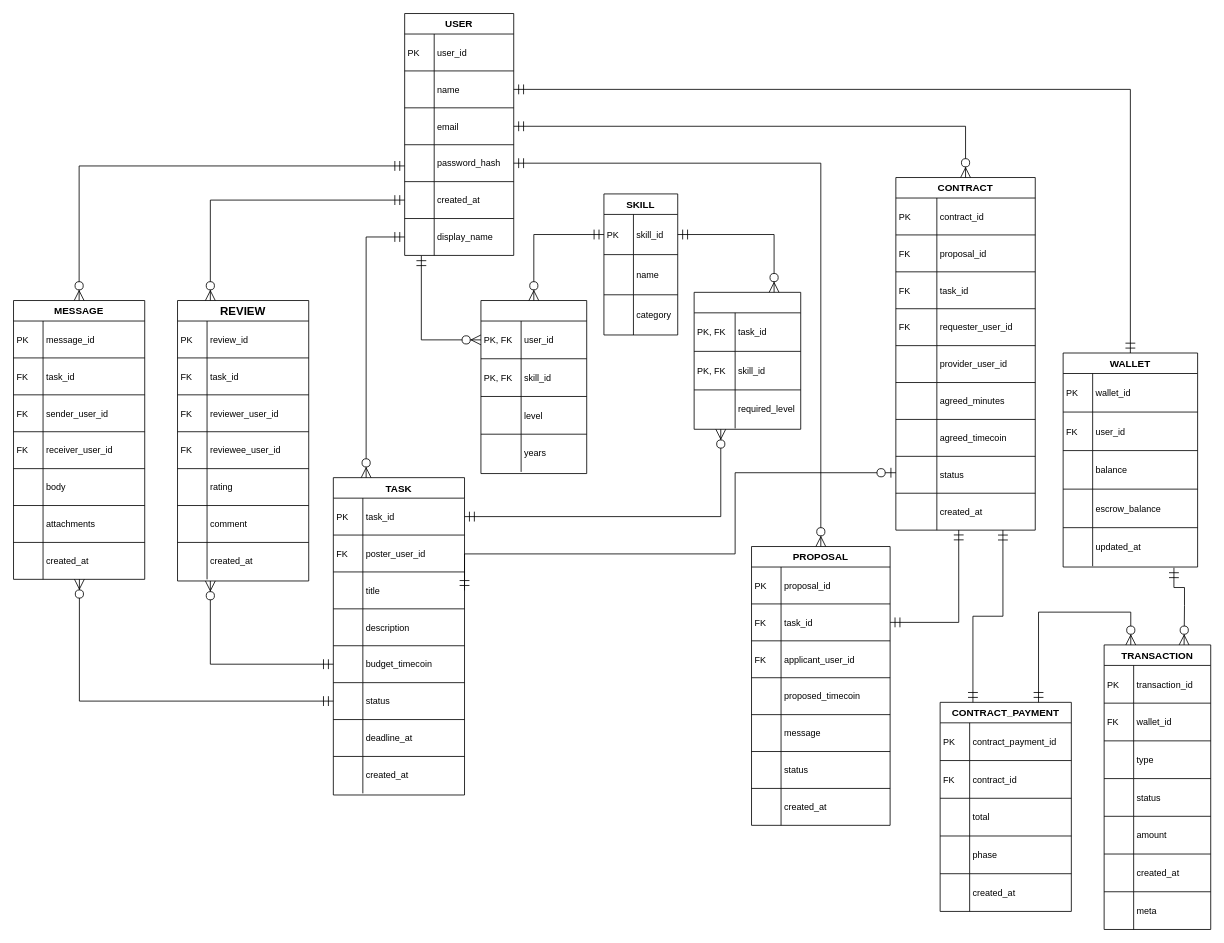
Some shapes in this 1224 by 943 pixel diagram are drawn without their labels. Here are the shapes that lost their labels. From the top down, the box of each, then its label:
(693, 292, 801, 429): TASK_SKILL
(480, 300, 587, 474): APPLICANT_SKILL
